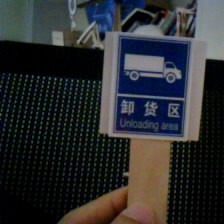unload: (99, 29, 194, 140)
